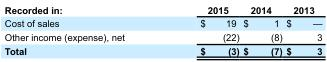table: (3, 3, 321, 56)
table column: (3, 3, 161, 56), (161, 3, 240, 56), (240, 3, 283, 56), (283, 3, 321, 56)
table column header: (3, 3, 321, 16)
table row: (3, 16, 321, 30), (3, 3, 321, 16), (3, 30, 321, 43), (3, 43, 321, 56)
